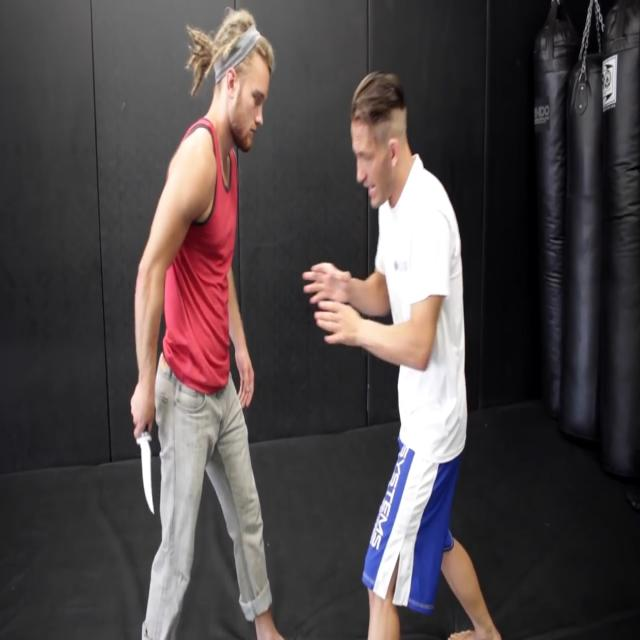knife: (134, 436, 160, 519)
